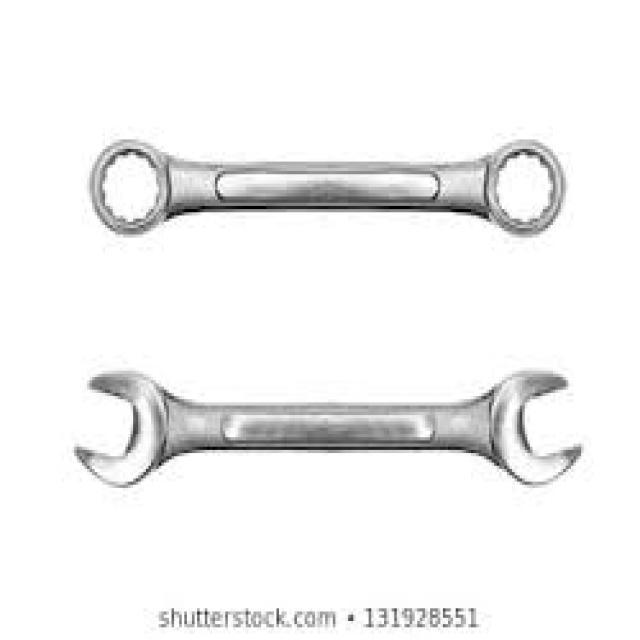wrench: (68, 354, 591, 501), (86, 125, 574, 248)
